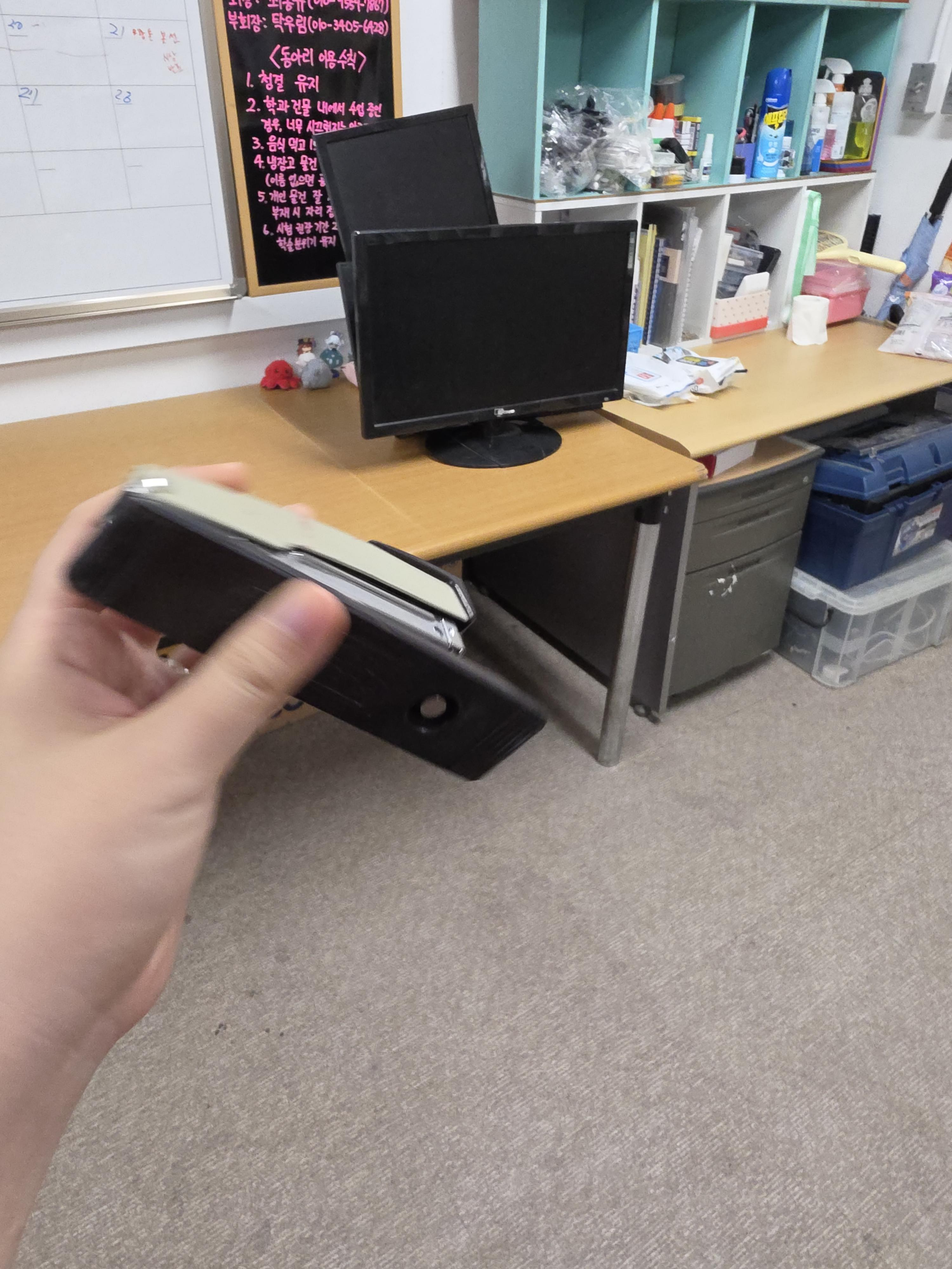stapler: (64, 464, 547, 782)
tissue: (787, 294, 829, 346)
